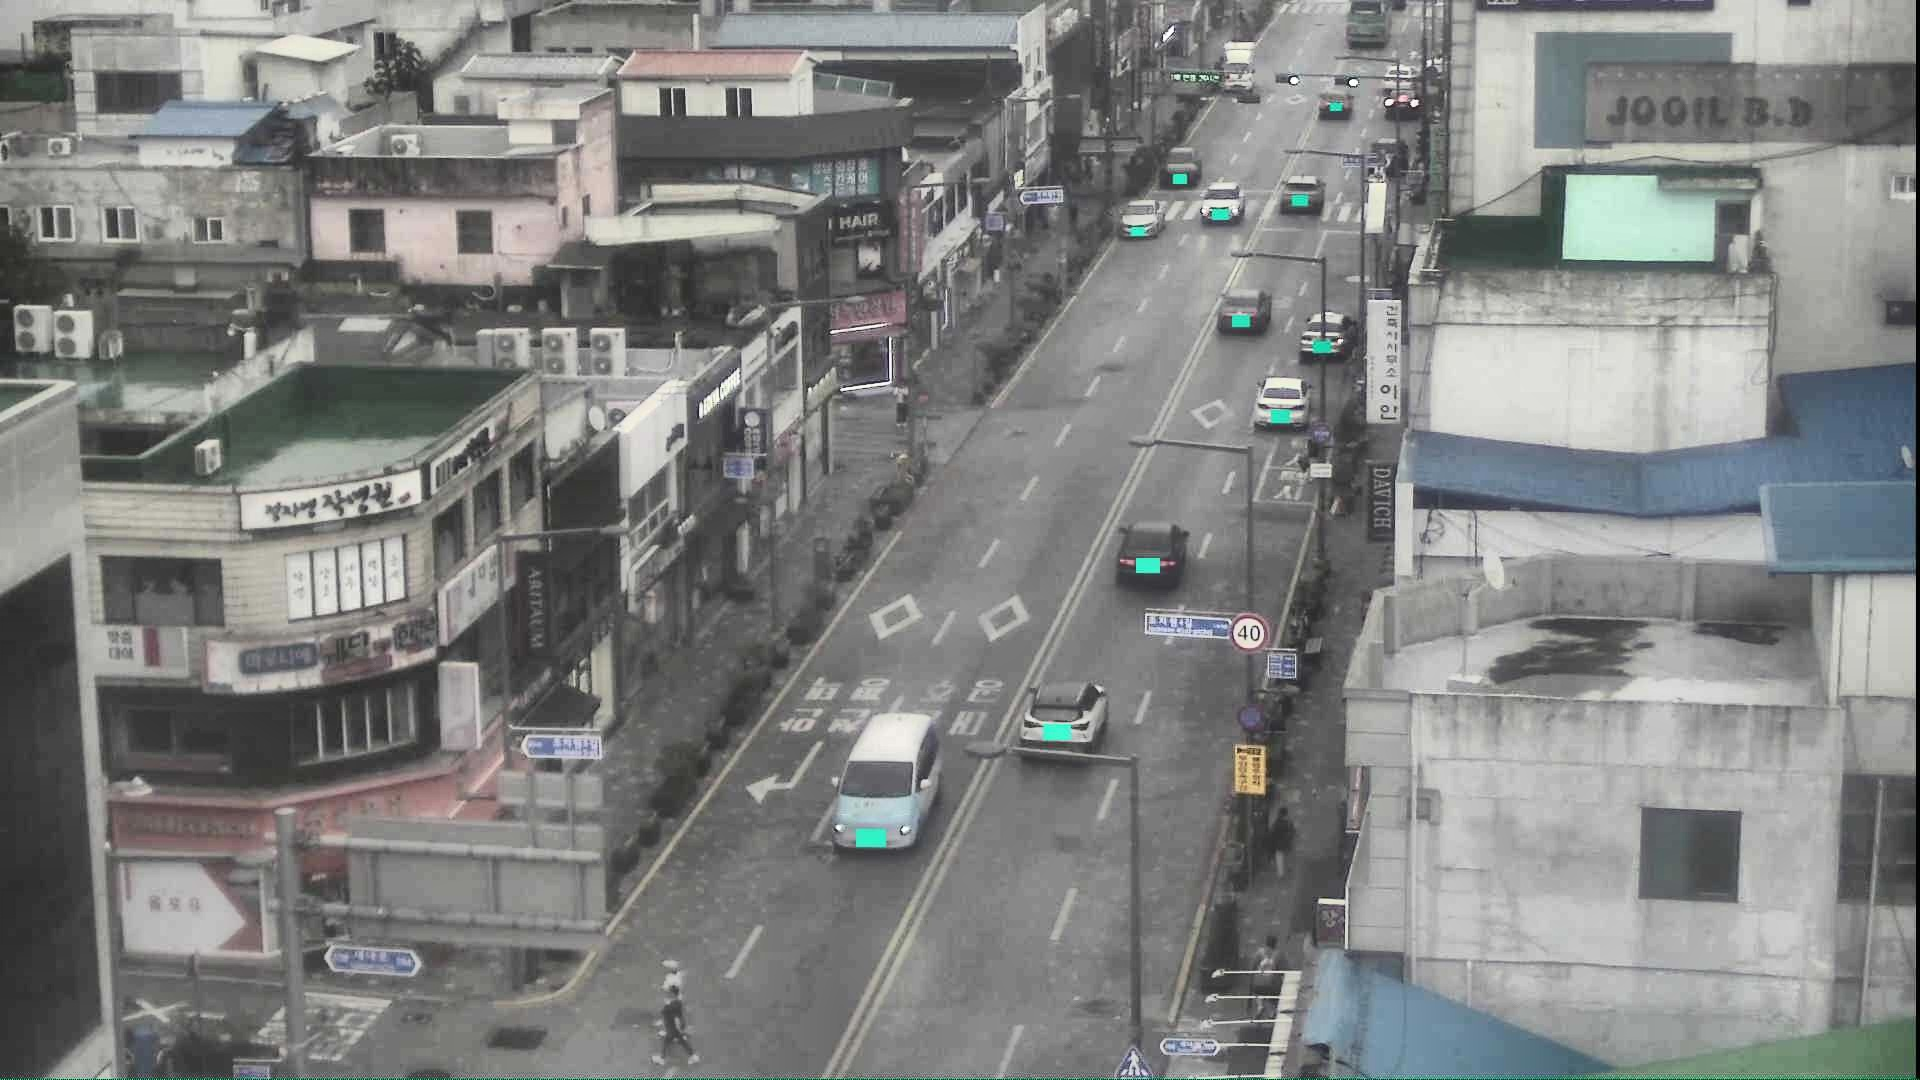jaywalk: (657, 985, 699, 1064), (659, 957, 680, 1021)
sidewalk: (1251, 936, 1288, 1023), (1266, 808, 1302, 882), (1062, 199, 1084, 243), (893, 381, 913, 427), (1043, 202, 1060, 243)
